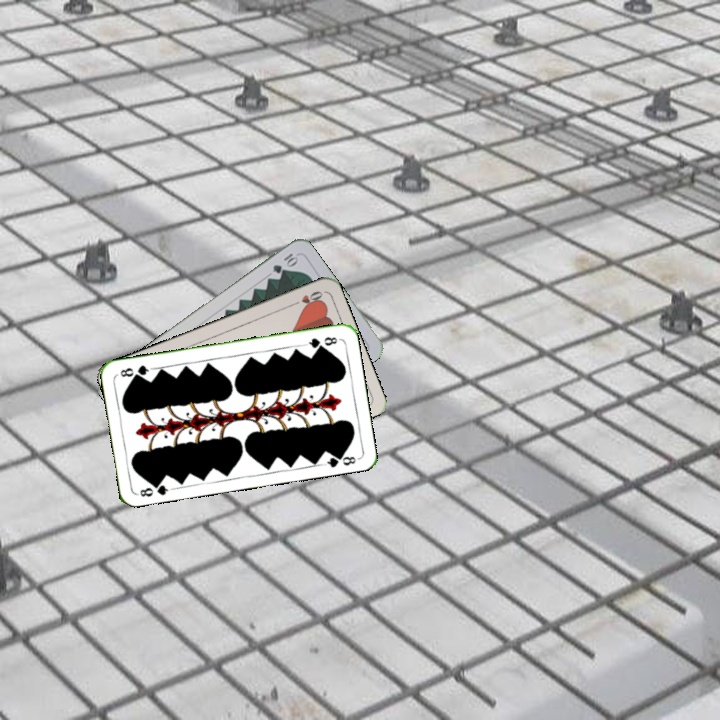G10: (269, 249, 301, 276)
G8: (134, 478, 175, 499), (301, 333, 340, 350)
HO: (287, 287, 325, 309)
